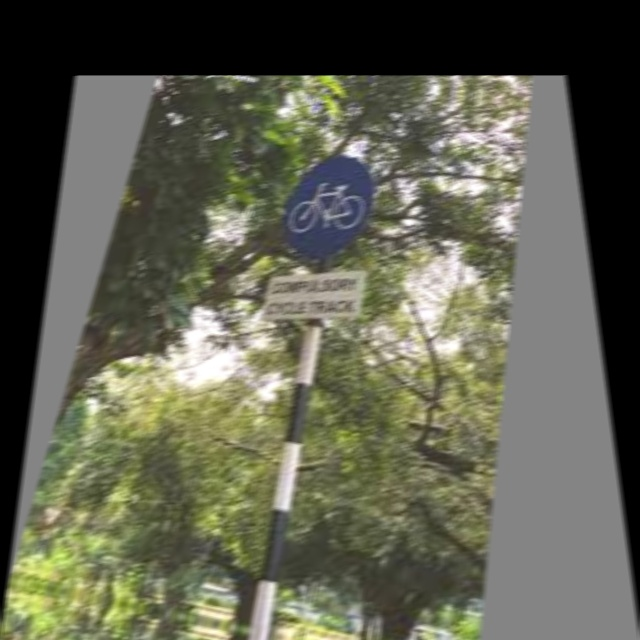Compulsory_Cycle_Track: (270, 147, 393, 267)
